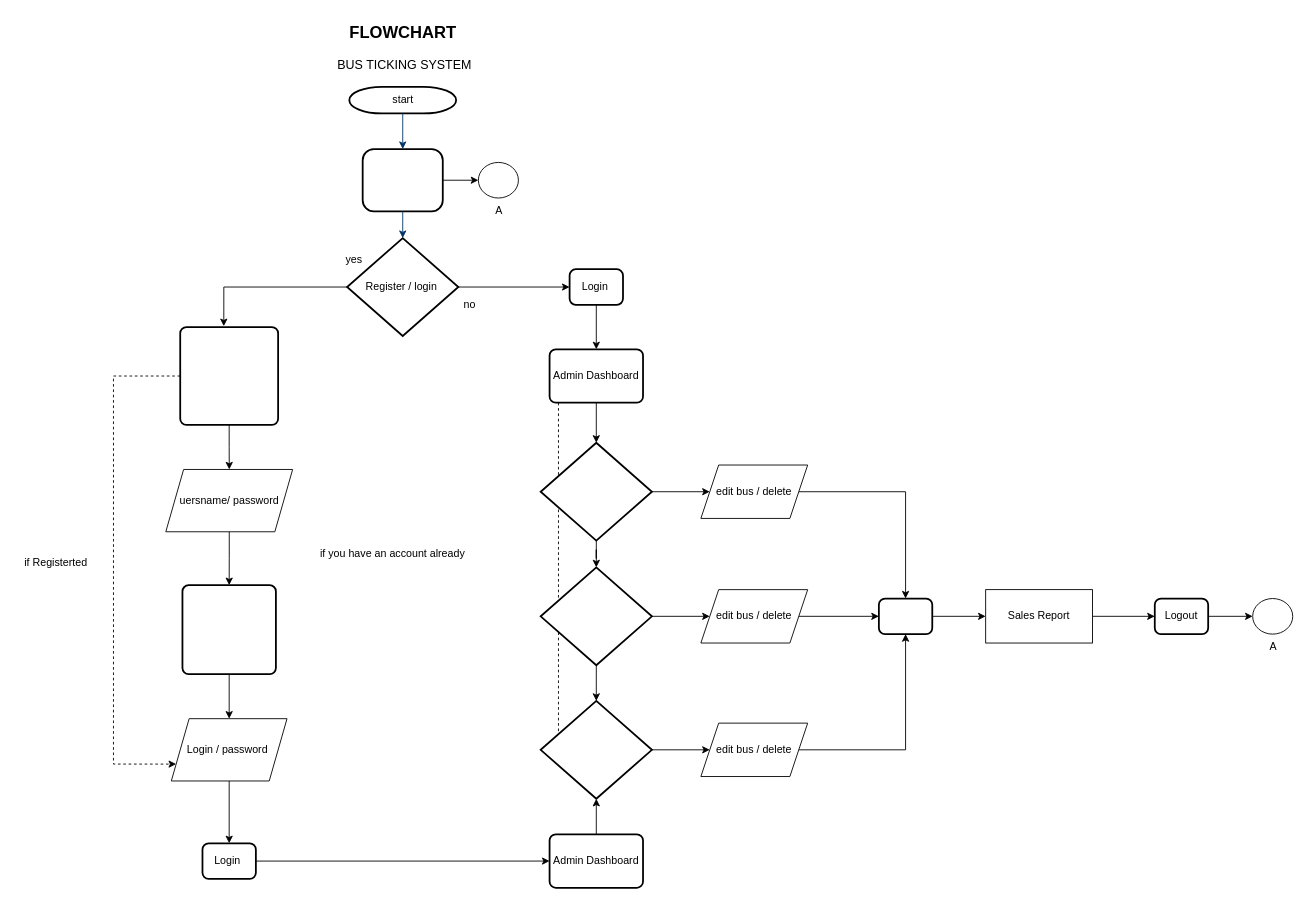
Image size: 1308x903. Some labels were removed from this diagram. The shapes that lost their labels are listed below. From the top down, each one's box as (x1, y1, x2, y2) in pixels, then its label:
(361, 148, 443, 212): homepages
(179, 326, 279, 425): Register Pages
(539, 441, 652, 541): if cagayan de oro
(181, 584, 276, 675): Login pages
(539, 566, 652, 666): if Lanao del norte
(878, 597, 933, 635): add bus
(539, 700, 652, 799): if cag
